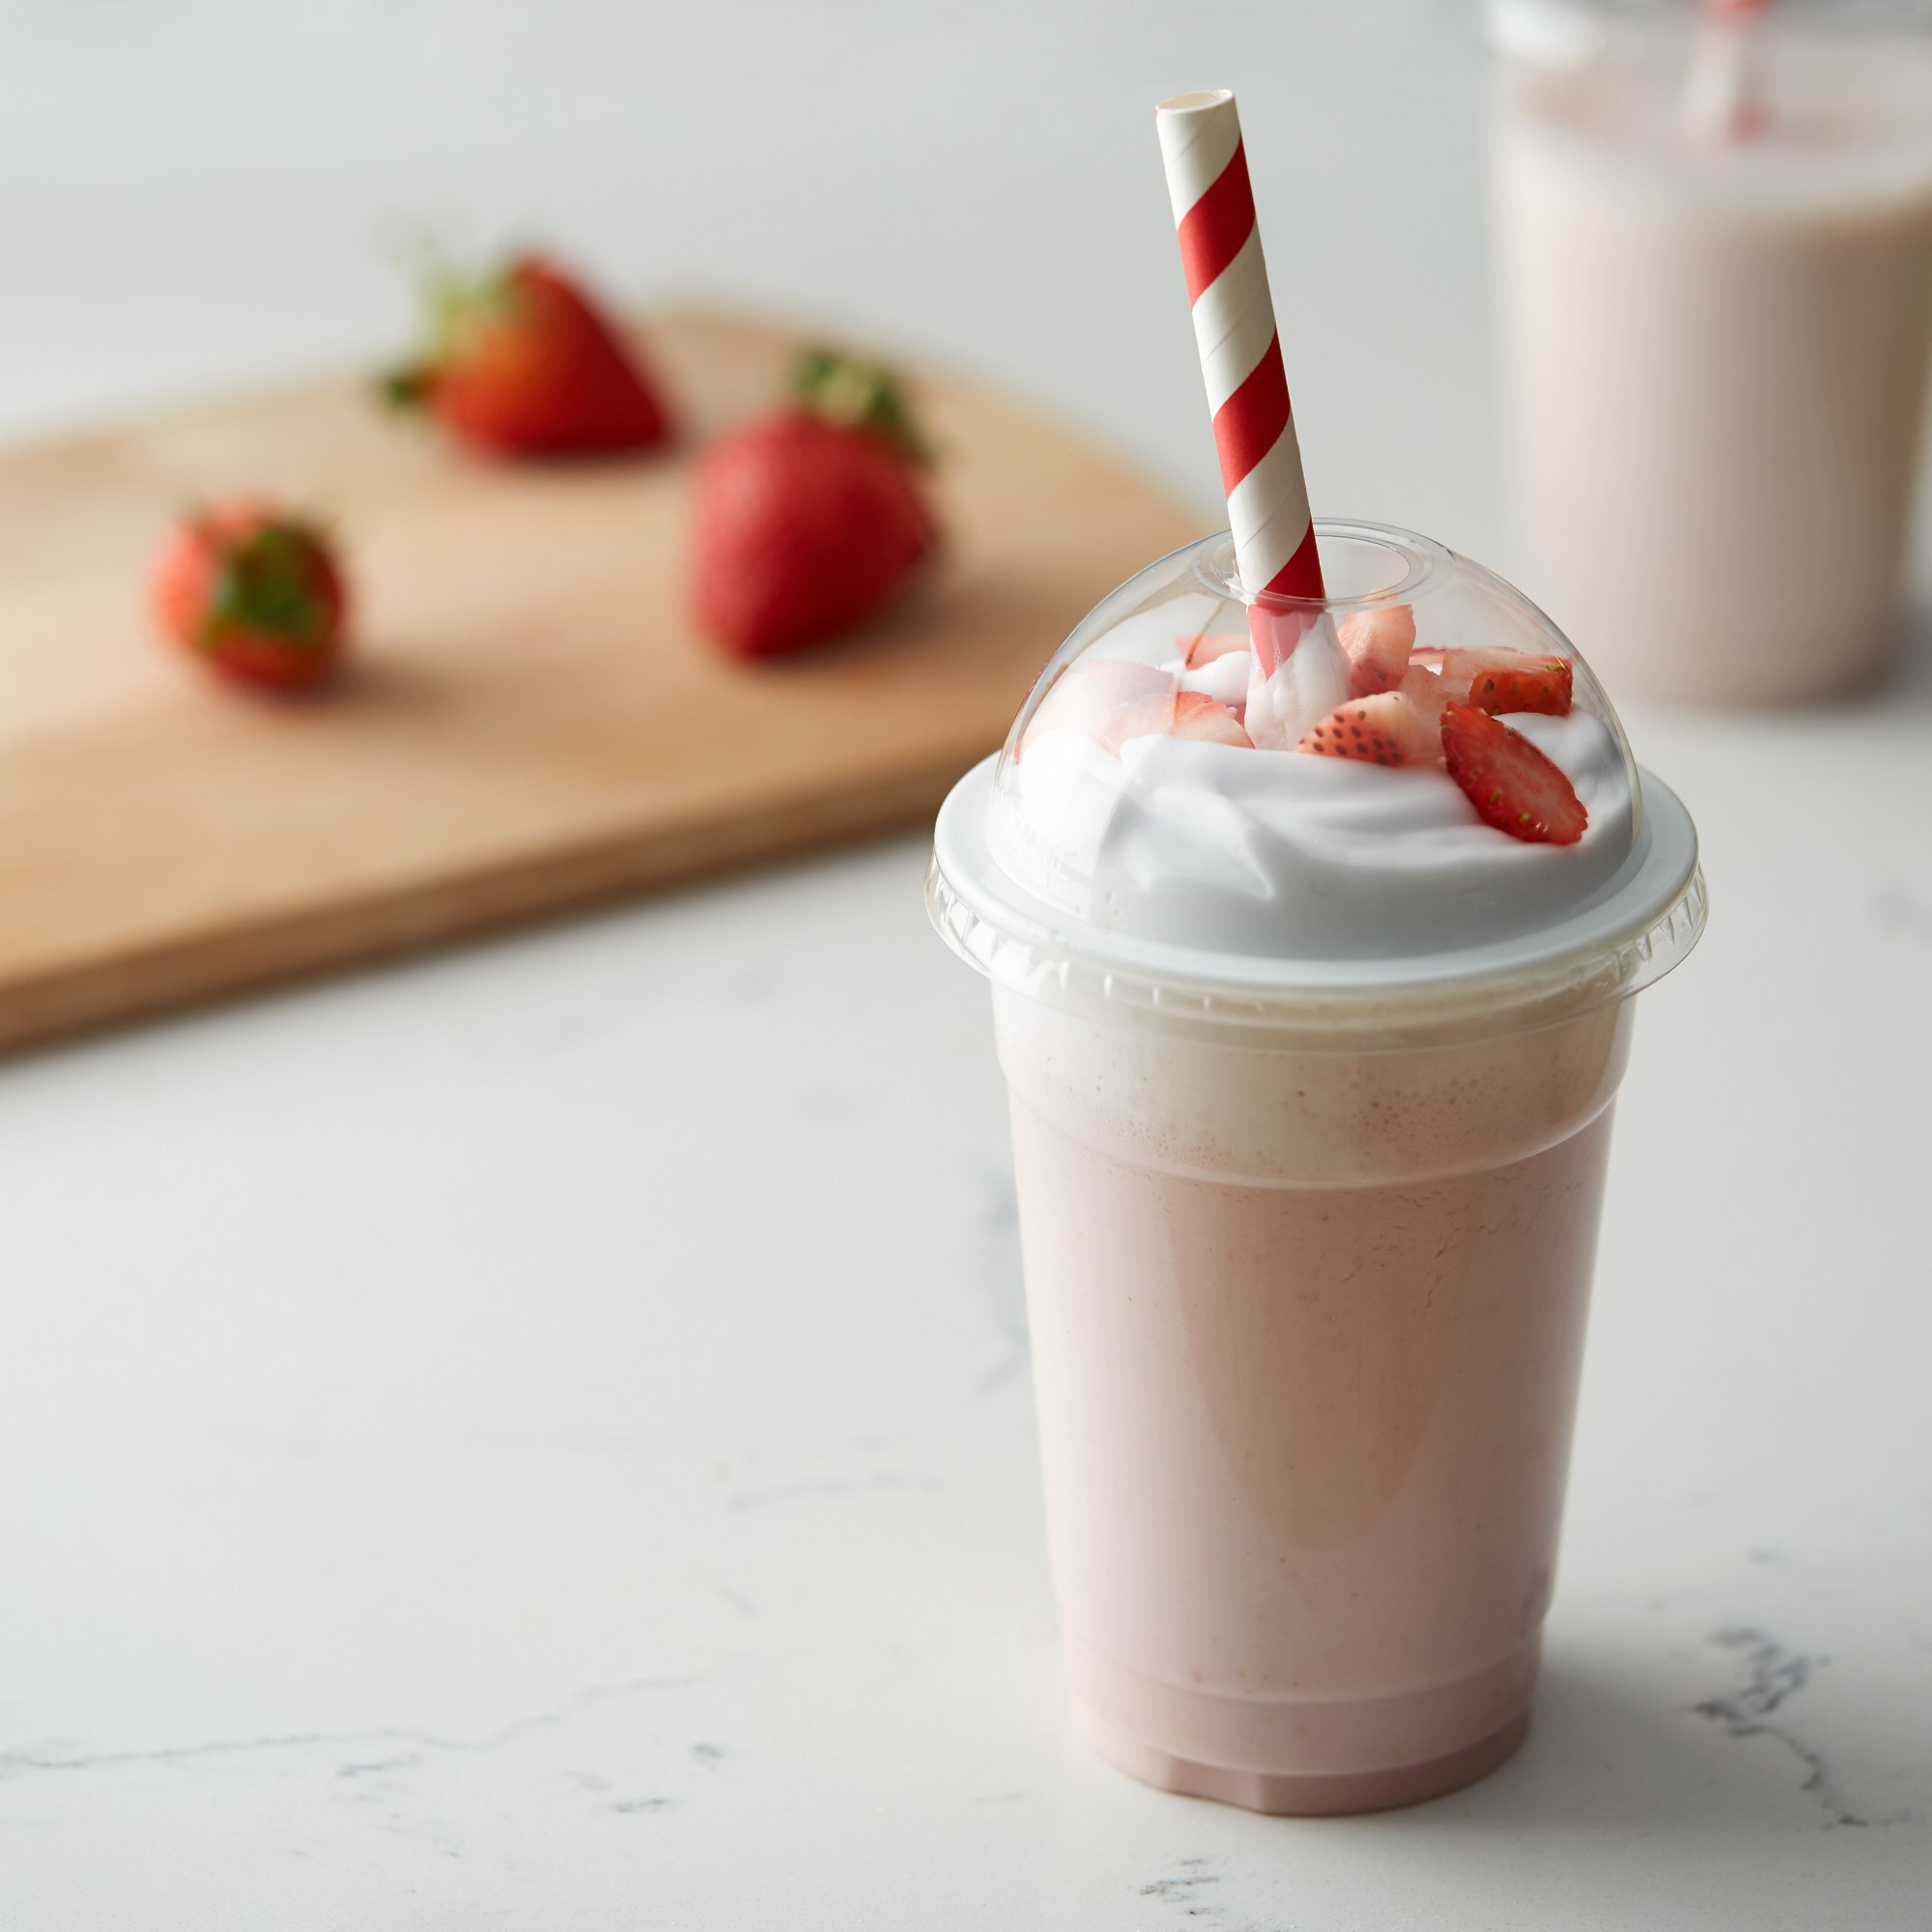Drinking Straw: (1143, 78, 1387, 752)
